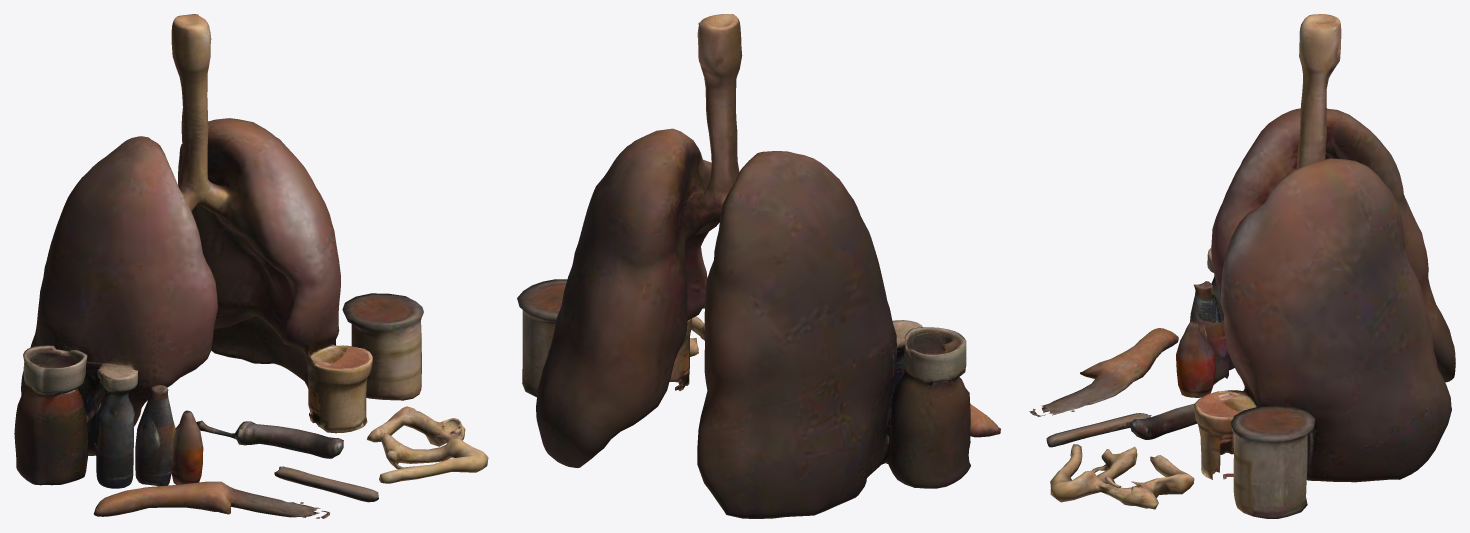
Rendered from treatment2.glb.
3 renders of one model, left to right at view 1: azimuth 30°, elevation 25°; view 2: azimuth 150°, elevation 25°; view 3: azimuth 270°, elevation 25°, orthographic. The views are drawn at different scales.
Parts seen in each view (by area): view 1: Treatment; view 2: Treatment; view 3: Treatment.
Part boxes in pixels (bbox=[...]): Treatment: bbox=[14, 14, 488, 518]; Treatment: bbox=[517, 14, 1000, 518]; Treatment: bbox=[1029, 14, 1455, 518].
Size of the model in its own units: 1.14 by 1.11 by 1.04.
1 material, 1 textured.
